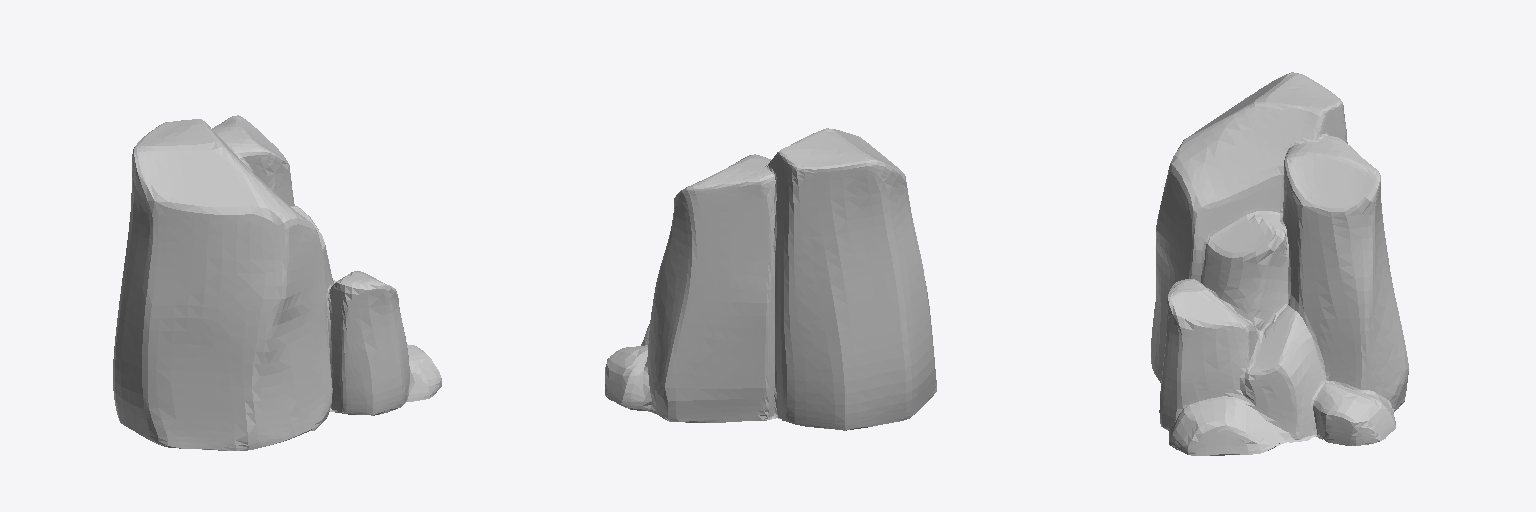
Rendered from Rocks1a.OBJ.
3 views of the same model, side by side, from view 1: azimuth 30°, elevation 25°; view 2: azimuth 150°, elevation 25°; view 3: azimuth 270°, elevation 25° (orthographic).
Visible parts, largest first — view 1: Rocks2:Group46701; view 2: Rocks2:Group46701; view 3: Rocks2:Group46701.
Part boxes in pixels (x1,y1,x2,y2): Rocks2:Group46701: (113,115,441,450); Rocks2:Group46701: (605,128,936,430); Rocks2:Group46701: (1151,72,1408,455).
Bounding box in the file's own units: 4.2 × 3.7 × 3.31.